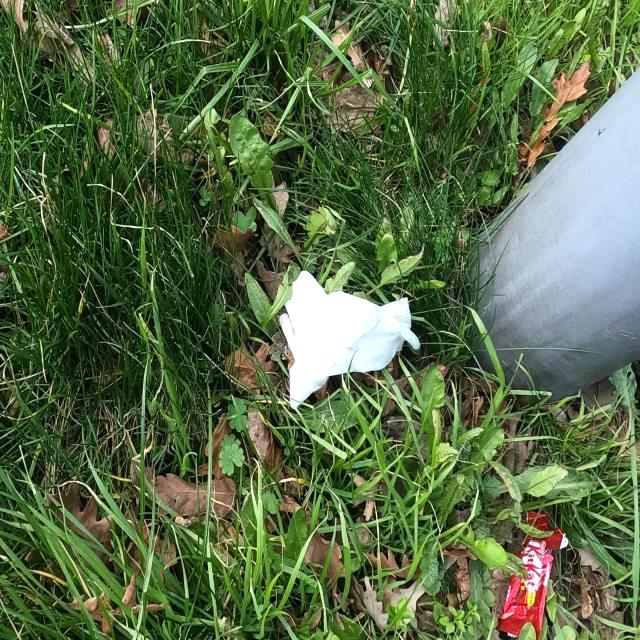Paper: (278, 268, 420, 410)
Plastic: (496, 508, 570, 640)
